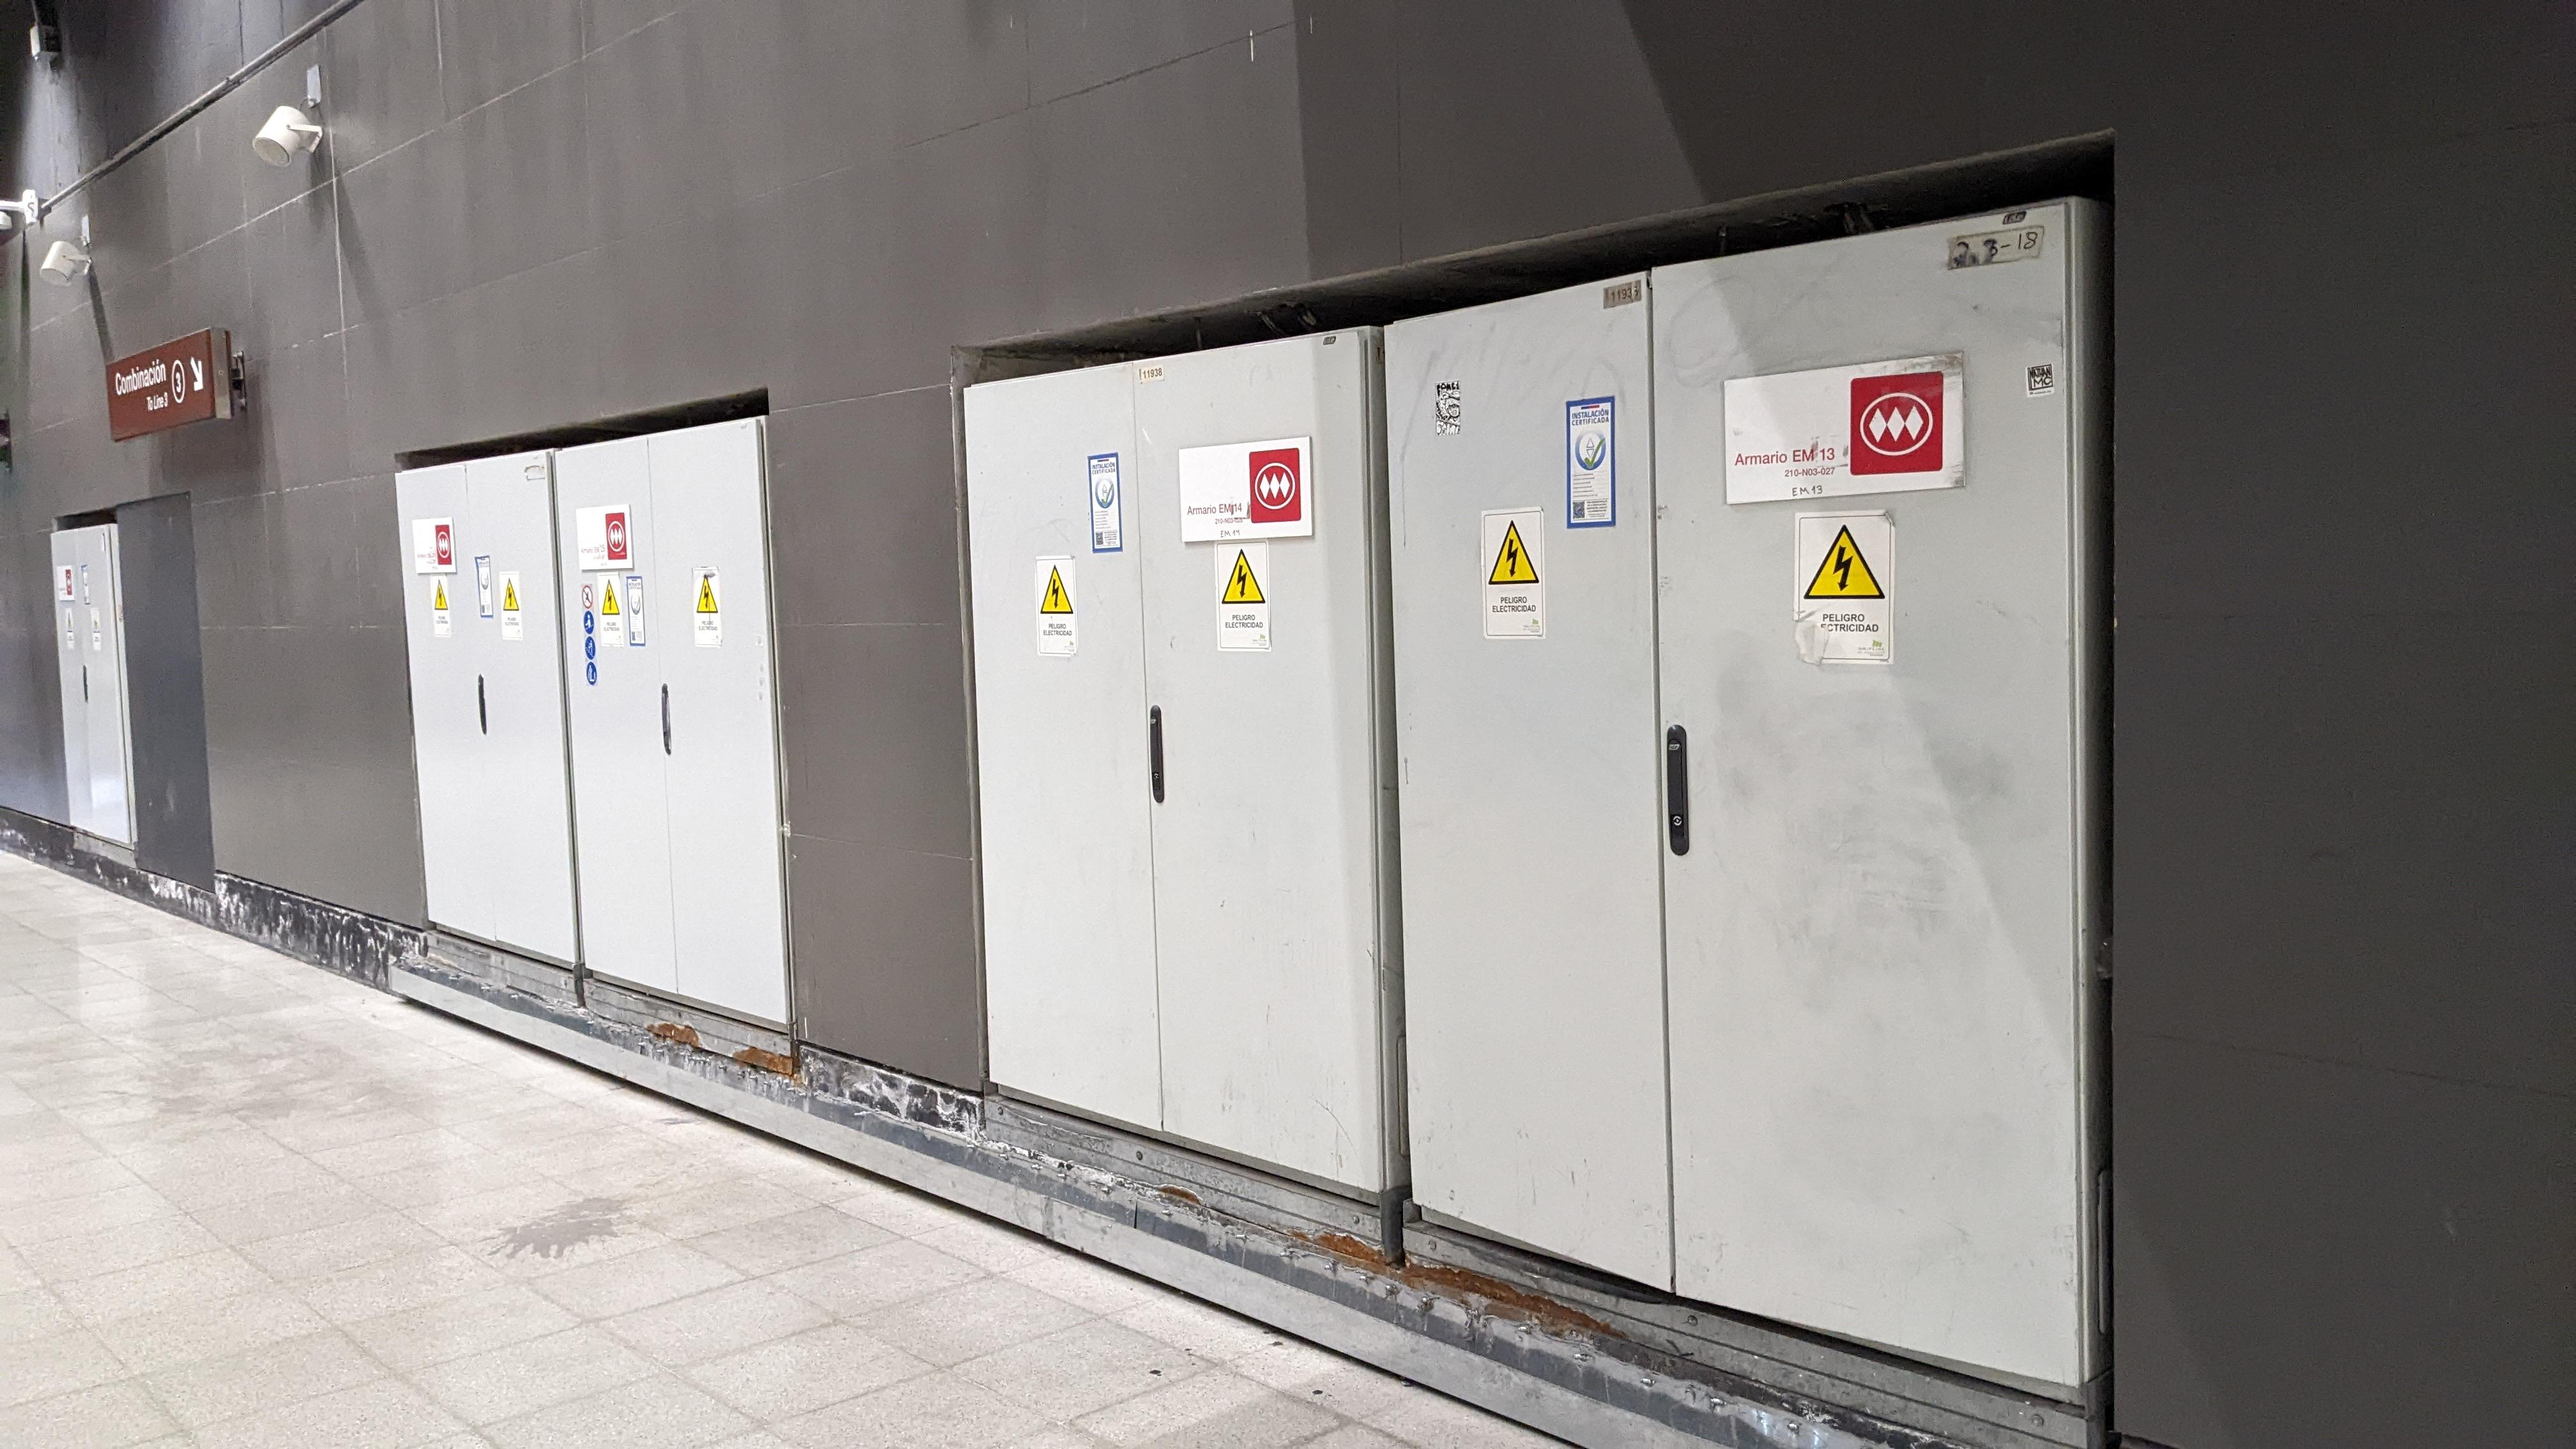danger-electricity: (1801, 524, 1890, 607), (1486, 518, 1543, 589), (1219, 547, 1269, 609), (1037, 559, 1077, 617), (695, 573, 718, 616), (600, 579, 621, 617), (502, 577, 520, 612), (433, 579, 449, 610)
